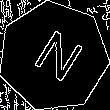N_SW: (23, 25, 84, 88)
